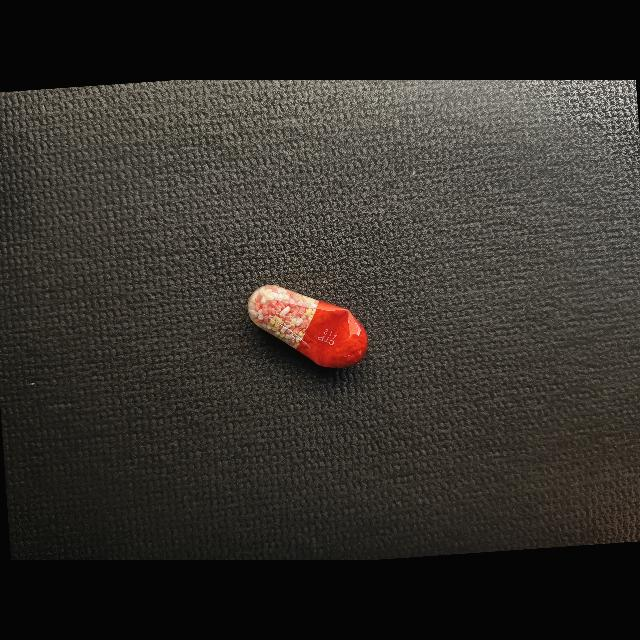Defective Capsule: (248, 285, 368, 368)
